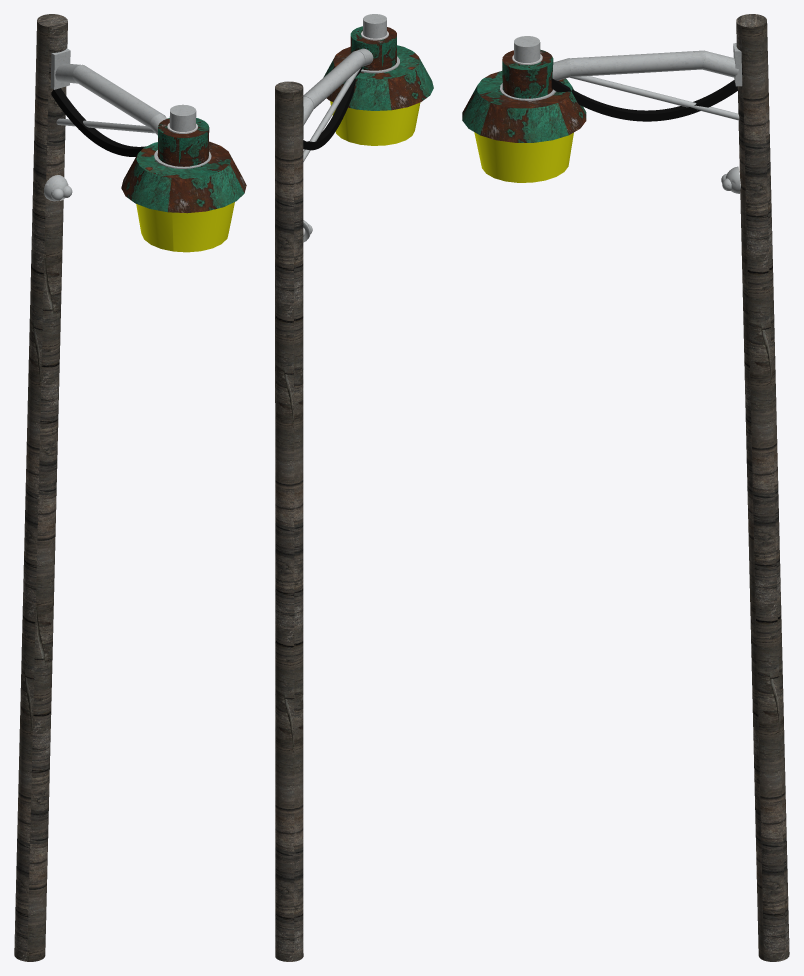
The model's file is StreetLamp.fbx.
3 renders of one model, left to right at view 1: azimuth 30°, elevation 25°; view 2: azimuth 150°, elevation 25°; view 3: azimuth 270°, elevation 25°, orthographic. The views are drawn at different scales.
Visible parts, largest first — view 1: Part10, Union4, Union5, Part11, Part14, Part15, Part1; view 2: Part10, Union4, Union5, Part11, Part14, Part1, Part15; view 3: Part10, Union4, Union5, Part14, Part11, Part1.
Boxes of the visible parts, left/top/right/bottom form: Part10: left=14, top=14, right=67, bottom=961; Union4: left=121, top=141, right=246, bottom=213; Union5: left=136, top=202, right=234, bottom=252; Part11: left=157, top=118, right=209, bottom=166; Part14: left=72, top=64, right=165, bottom=128; Part15: left=169, top=104, right=196, bottom=131; Part1: left=56, top=118, right=154, bottom=133; Part10: left=275, top=81, right=303, bottom=961; Union4: left=323, top=45, right=433, bottom=110; Union5: left=330, top=101, right=420, bottom=145; Part11: left=350, top=26, right=396, bottom=70; Part14: left=303, top=51, right=364, bottom=108; Part1: left=303, top=68, right=360, bottom=161; Part15: left=363, top=14, right=386, bottom=38; Part10: left=736, top=14, right=789, bottom=961; Union4: left=462, top=71, right=586, bottom=142; Union5: left=474, top=132, right=573, bottom=182; Part14: left=569, top=50, right=706, bottom=76; Part11: left=502, top=49, right=553, bottom=98; Part1: left=569, top=76, right=739, bottom=120.
Size of the model in its own units: 320 by 2678 by 844.
